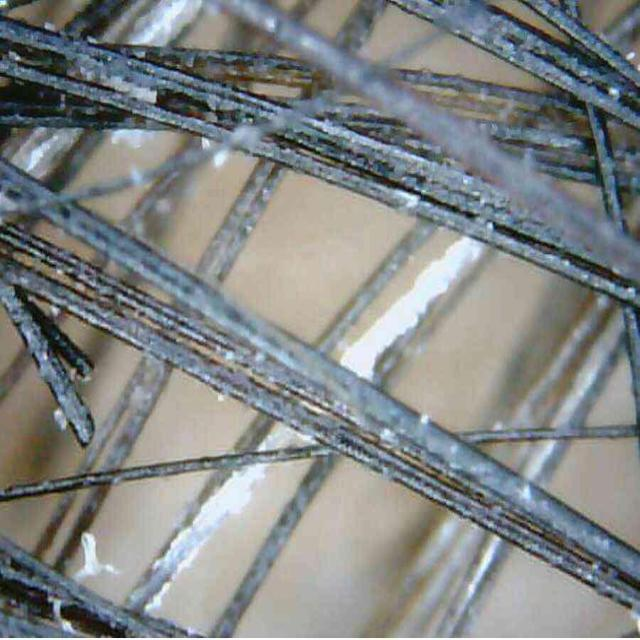d: (340, 237, 485, 380), (341, 237, 484, 380), (151, 464, 266, 586), (74, 531, 120, 579), (260, 424, 305, 450)
